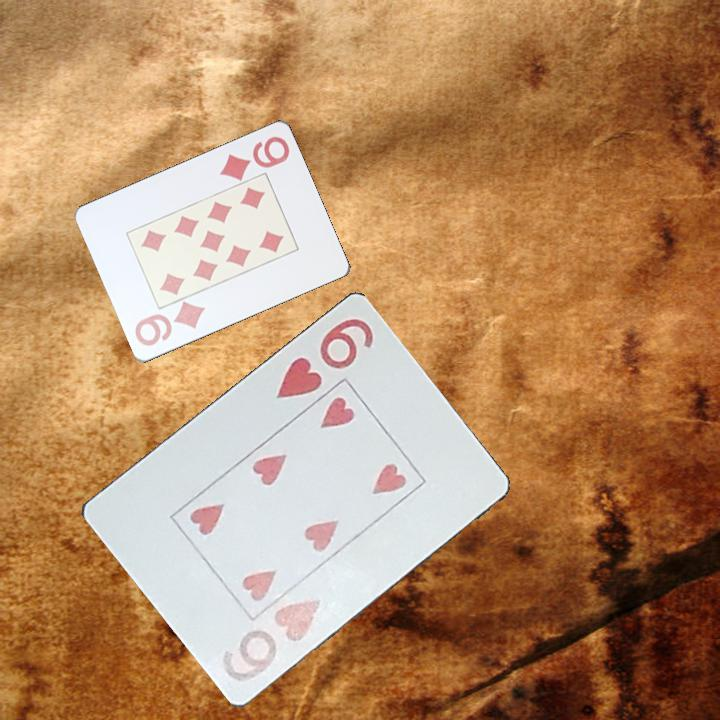6h: (217, 595, 329, 691), (272, 315, 377, 403)
9d: (215, 133, 293, 184), (131, 299, 208, 349)
